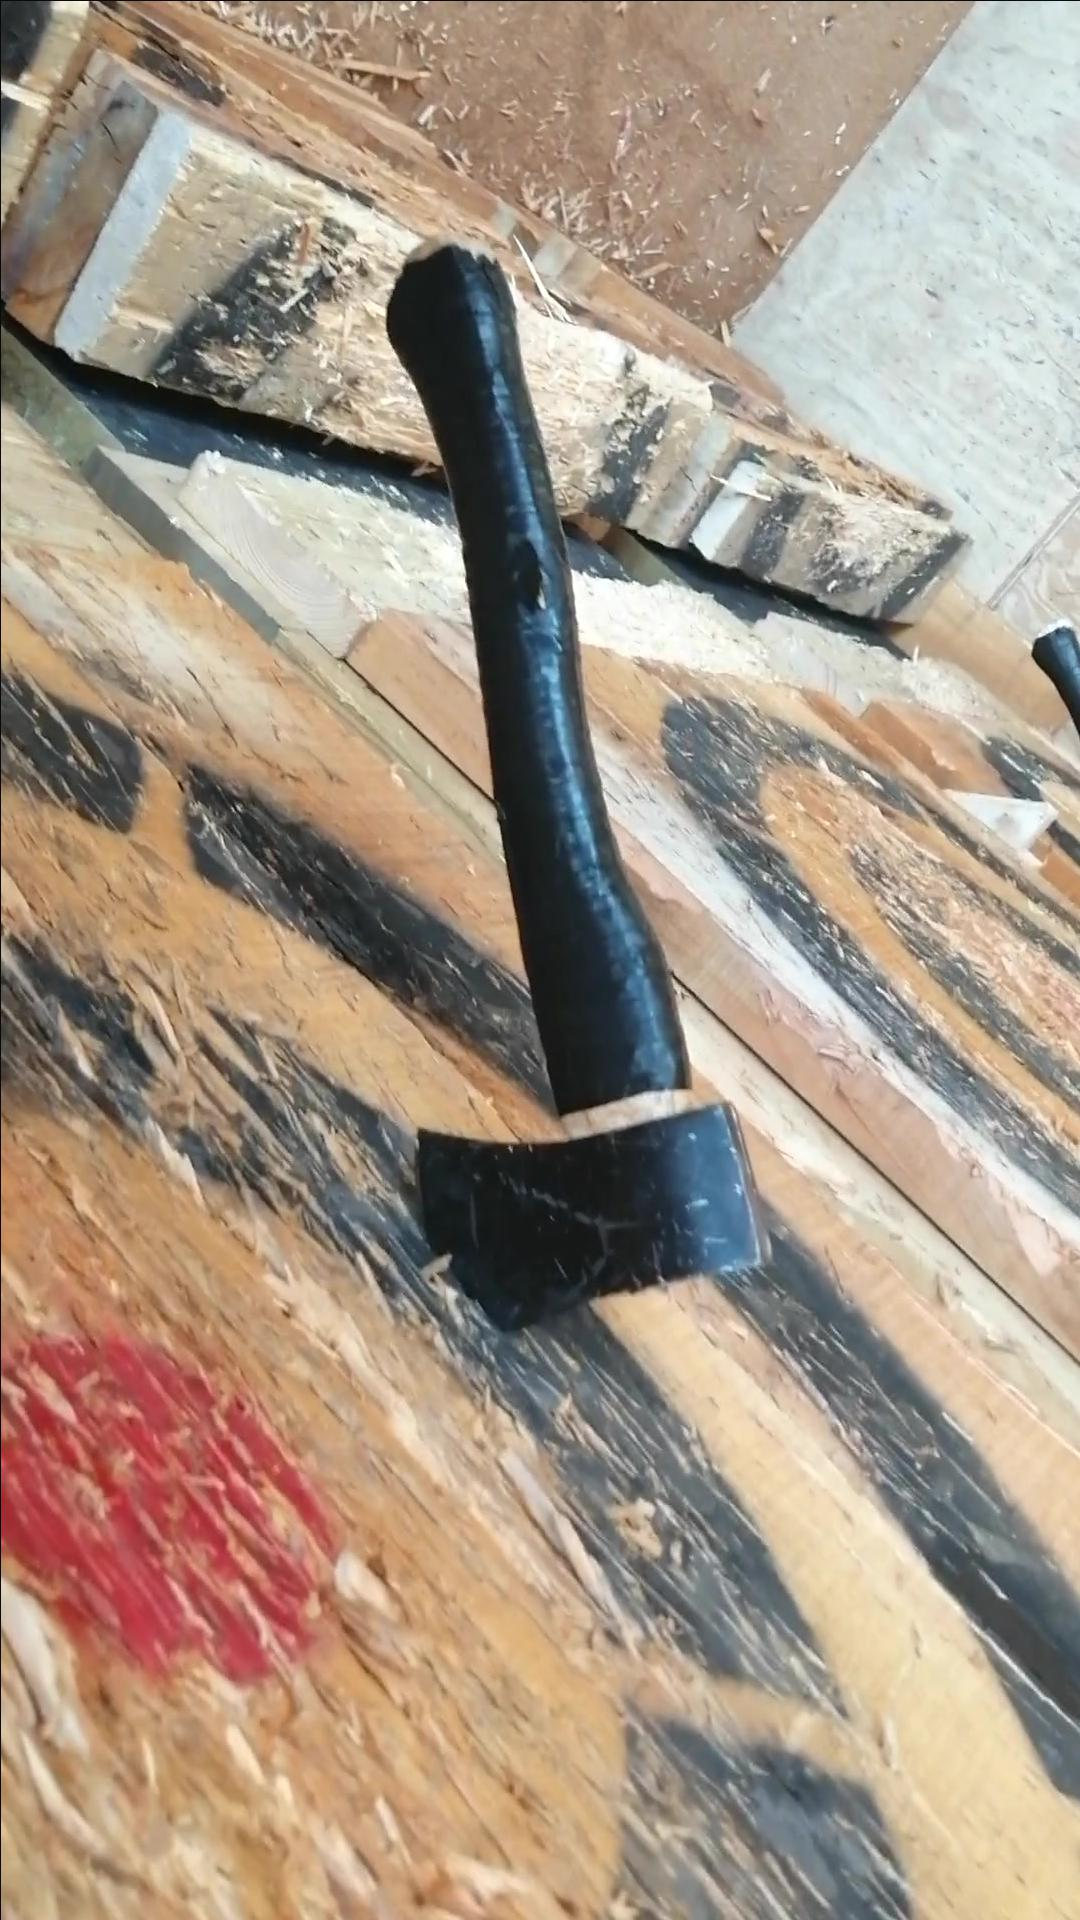Hand Axe: (409, 1100, 770, 1331)
